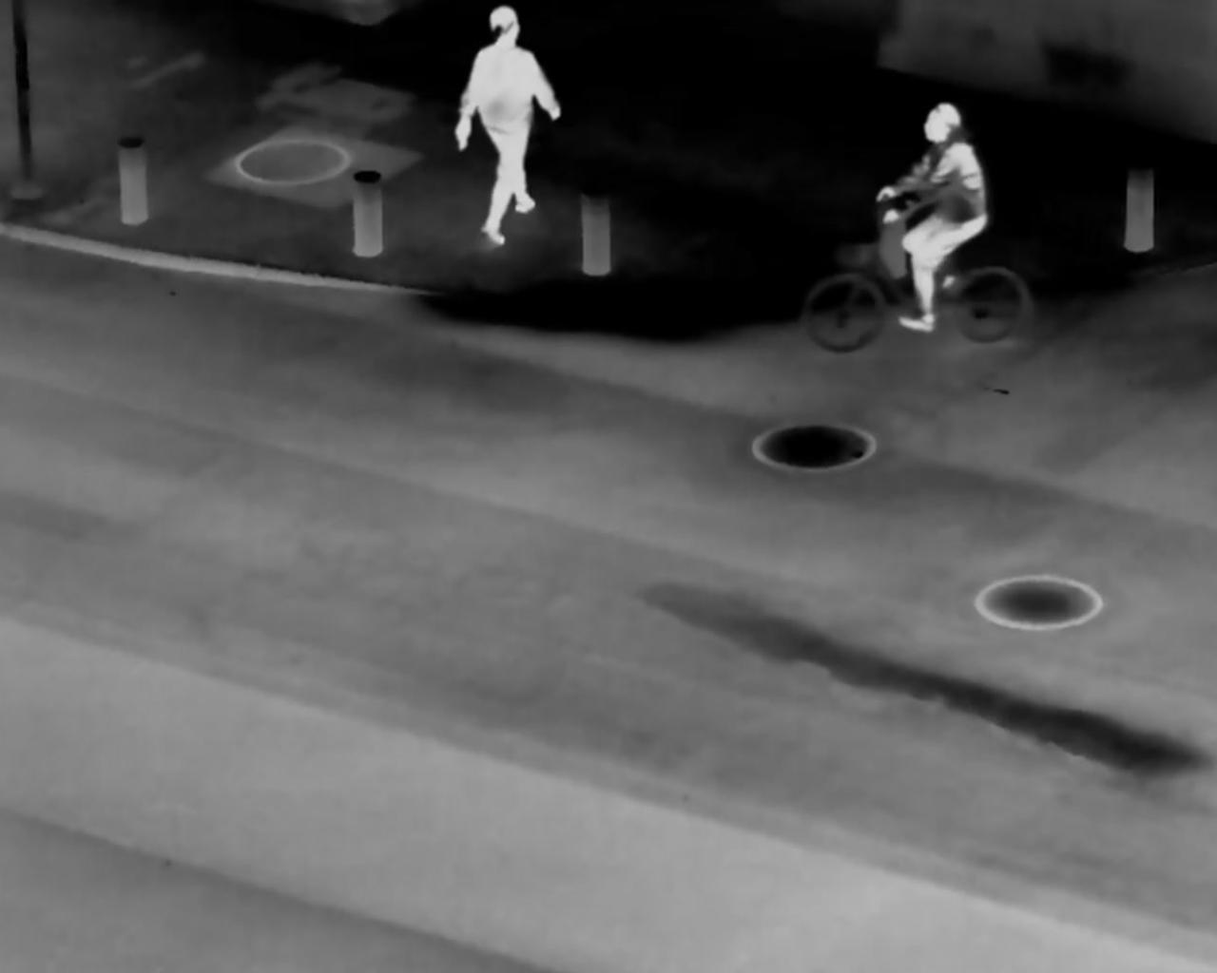person: (874, 97, 989, 336)
